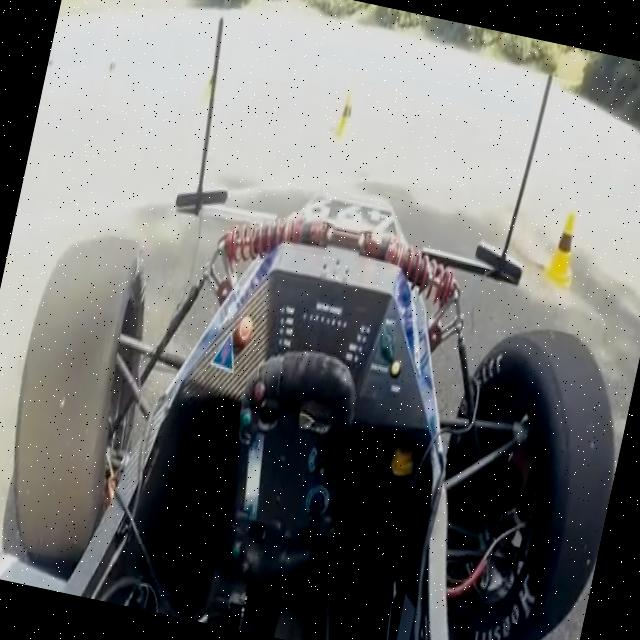yellow_cone: (540, 197, 590, 290), (331, 89, 362, 148), (198, 65, 222, 110), (98, 58, 118, 95), (42, 58, 56, 92)
